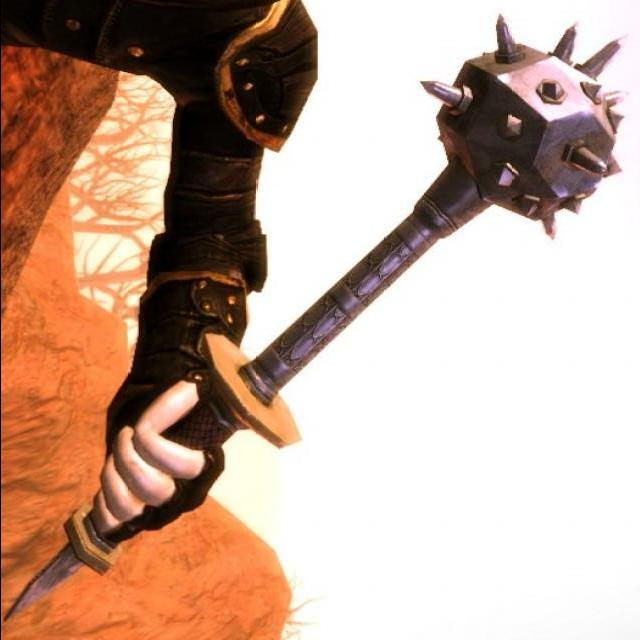mace: (65, 18, 632, 559)
